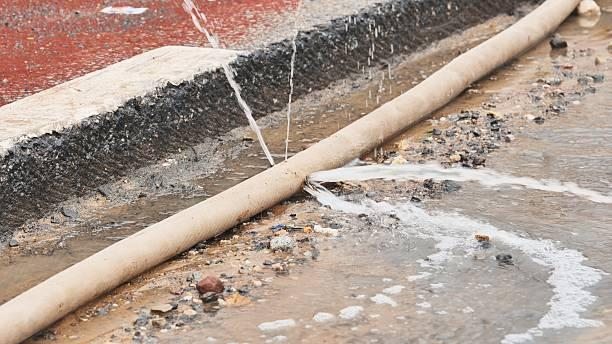pipe burst: (184, 0, 279, 170), (299, 161, 535, 214), (281, 0, 305, 166)
water accumulation: (0, 0, 612, 343)
